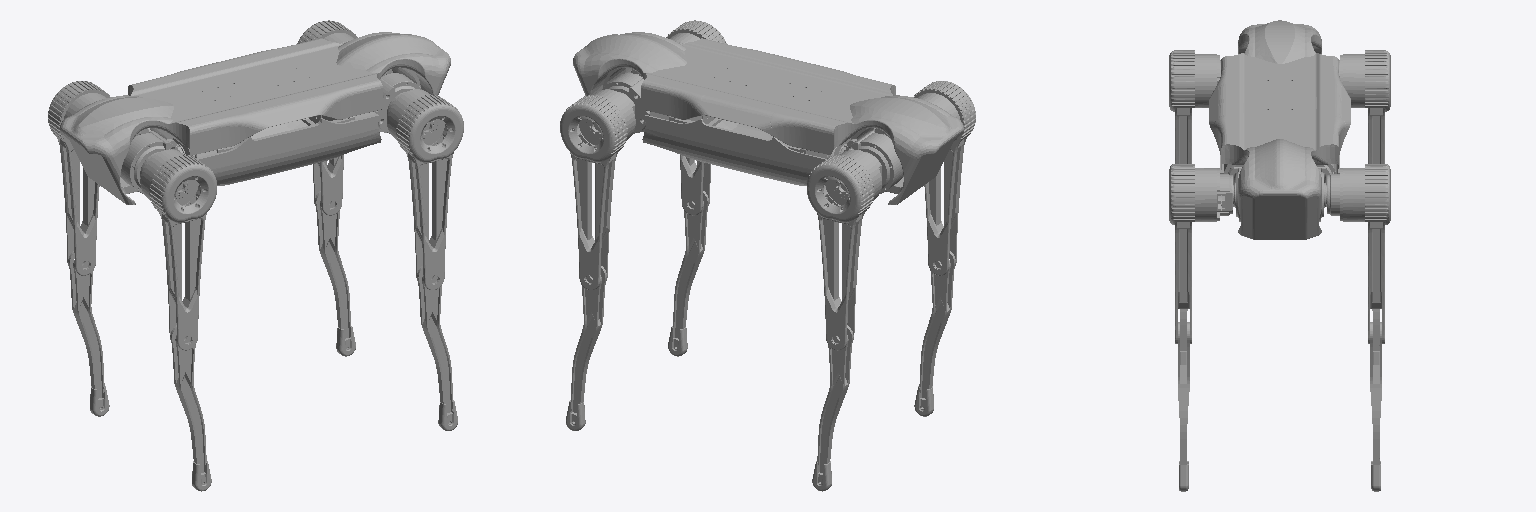
The robot description file, URDF, robot "rex":
<?xml version="1.0" encoding="utf-8"?>
<robot name="rex" xmlns:xacro="http://www.ros.org/wiki/xacro">
  <material name="silver">
    <color rgba="0.700 0.700 0.700 1.000"/>
  </material>
  <!-- Params -->
  <!-- Macros -->
  <!-- Robot Body -->
  <link name="base_link">
    <inertial>
      <origin rpy="0 0 0" xyz="0.02003748539570111 -0.0071304890141553725 0.024462365334068953"/>
      <mass value="5.0"/>
      <inertia ixx="0.19852" ixy="-0.000537" ixz="0.009898" iyy="2.089409" iyz="-0.000639" izz="2.11854"/>
    </inertial>
    <visual>
      <origin rpy="0 0 0" xyz="0 0 0"/>
      <geometry>
        <mesh filename="stl/base_link.stl" scale="0.001 0.001 0.001"/>
      </geometry>
      <material name="silver"/>
    </visual>
    <collision>
      <origin rpy="0 0 0" xyz="0 0 0"/>
      <geometry>
        <mesh filename="stl/base_link.stl" scale="0.001 0.001 0.001"/>
      </geometry>
    </collision>
  </link>
    <!-- create Leg left front leg -->
  <link name="front_left_shoulder_link">
    <inertial>
      <origin rpy="0 0 0" xyz="0.05316643515331182 0.000550720182022707 0.0005858398004480255"/>
      <mass value="2.0"/>
      <inertia ixx="0.002477" ixy="-1.3e-05" ixz="3.2e-05" iyy="0.003947" iyz="1.1e-05" izz="0.002928"/>
    </inertial>
    <visual>
      <origin rpy="0 0 0" xyz="-0.194567 -0.048706 -0.003592"/>
      <geometry>
        <mesh filename="stl/lf_hip_1.stl" scale="0.001 0.001 0.001"/>
      </geometry>
      <material name="silver"/>
    </visual>
    <collision>
      <origin rpy="0 0 0" xyz="-0.194567 -0.048706 -0.003592"/>
      <geometry>
        <mesh filename="stl/lf_hip_1.stl" scale="0.001 0.001 0.001"/>
      </geometry>
    </collision>
  </link>
<link name="front_left_leg_link">
    <inertial>
      <origin rpy="0 0 0" xyz="0.00047044463767242917 0.05813747232667811 -0.0292515806223483"/>
      <mass value="1.0"/>
      <inertia ixx="0.025689" ixy="7.8e-05" ixz="-3.2e-05" iyy="0.025057" iyz="0.004085" izz="0.005269"/>
    </inertial>
    <visual>
      <origin rpy="0 0 0" xyz="-0.252487 -0.079856 -0.003592"/>
      <geometry>
        <mesh filename="stl/lf_leg_1.stl" scale="0.001 0.001 0.001"/>
      </geometry>
      <material name="silver"/>
    </visual>
    <collision>
      <origin rpy="0 0 0" xyz="-0.252487 -0.079856 -0.003592"/>
      <geometry>
        <mesh filename="stl/lf_leg_1.stl" scale="0.001 0.001 0.001"/>
      </geometry>
    </collision>
  </link>
    <link name="front_left_leg_link_cover">
    <inertial>
      <origin rpy="0 0 0" xyz="-2.090400194443287e-06 -0.008202465460677294 0.013476753636331816"/>
      <mass value="0.13180516321676988"/>
      <inertia ixx="0.000126" ixy="-0.0" ixz="-0.0" iyy="0.00027" iyz="1.4e-05" izz="0.00019"/>
    </inertial>
    <visual>
      <origin rpy="0 0 0" xyz="-0.252487 -0.185661 -0.003592"/>
      <geometry>
        <mesh filename="stl/p2_1.stl" scale="0.001 0.001 0.001"/>
      </geometry>
      <material name="silver"/>
    </visual>
    <collision>
      <origin rpy="0 0 0" xyz="-0.252487 -0.185661 -0.003592"/>
      <geometry>
        <mesh filename="stl/p2_1.stl" scale="0.001 0.001 0.001"/>
      </geometry>
    </collision>
  </link>
  <link name="front_left_foot_link">
    <inertial>
      <origin rpy="0 0 0" xyz="0.012966291166638166 -0.011210239998497795 -0.11754008696762525"/>
      <mass value="0.11741117146712181"/>
      <inertia ixx="0.000953" ixy="0.0" ixz="0.000137" iyy="0.000982" iyz="-0.0" izz="3.8e-05"/>
    </inertial>
    <visual>
      <origin rpy="0 0 0" xyz="-0.252498 -0.180861 0.275581"/>
      <geometry>
        <mesh filename="stl/lf_lowleg_1.stl" scale="0.001 0.001 0.001"/>
      </geometry>
      <material name="silver"/>
    </visual>
    <collision>
      <origin rpy="0 0 0" xyz="-0.252498 -0.180861 0.275581"/>
      <geometry>
        <mesh filename="stl/lf_lowleg_1.stl" scale="0.001 0.001 0.001"/>
      </geometry>
    </collision>
  </link>
  <link name="front_left_toe_link">
    <inertial>
      <origin rpy="0 0 0" xyz="-0.00048427024923497486 -0.007000065531260535 0.006815977676121854"/>
      <mass value="0.15329743789754363"/>
      <inertia ixx="3.2e-05" ixy="0.0" ixz="1e-06" iyy="4.2e-05" iyz="-0.0" izz="1.7e-05"/>
    </inertial>
    <visual>
      <origin rpy="0 0 0" xyz="-0.288226 -0.176661 0.559142"/>
      <geometry>
        <mesh filename="stl/lf_foot_1.stl" scale="0.001 0.001 0.001"/>
      </geometry>
      <material name="silver"/>
    </visual>
    <collision>
      <origin rpy="0 0 0" xyz="-0.288226 -0.176661 0.559142"/>
      <geometry>
        <mesh filename="stl/lf_foot_1.stl" scale="0.001 0.001 0.001"/>
      </geometry>
    </collision>
  </link>
    <joint name="motor_front_left_shoulder" type="revolute">
    <origin rpy="0 0 0" xyz="0.194567 0.048706 0.003592"/>
    <parent link="base_link"/>
    <child link="front_left_shoulder_link"/>
    <axis xyz="1.0 0.0 -0.0"/>
    <limit effort="100.0" lower="-0.78" upper="0.78" velocity="0.7"/>
    <dynamics damping="0.0" friction="0.5"/>
    </joint>
    <joint name="motor_front_left_leg" type="revolute">
    <origin rpy="0 0 0" xyz="0.05792 0.03115 0.0"/>
    <parent link="front_left_shoulder_link"/>
    <child link="front_left_leg_link"/>
    <axis xyz="0.0 1.0 -0.0"/>
    <limit effort="100.0" lower="-2.44" upper="2.44" velocity="0.5"/>
    <dynamics damping="0.0" friction="0.0"/>
    </joint>
    <joint name="foot_motor_front_left" type="revolute">
    <origin rpy="0 0 0" xyz="1.1e-05 0.101005 -0.279173"/>
    <parent link="front_left_leg_link"/>
    <child link="front_left_foot_link"/>
    <axis xyz="-0.0 1.0 0.0"/>
    <limit effort="100.0" lower="-2.67" upper="2.67" velocity="0.5"/>
    <dynamics damping="0.0" friction="0.5"/>
    </joint>
    <joint name="front_left_toe" type="fixed">
    <origin rpy="0 0 0" xyz="0.035728 -0.0042 -0.283561"/>
    <parent link="front_left_foot_link"/>
    <child link="front_left_toe_link"/>
    </joint>
    <joint name="front_left_leg_cover_joint" type="fixed">
    <origin rpy="0 0 0" xyz="0.0 0.105805 0.0"/>
    <parent link="front_left_leg_link"/>
    <child link="front_left_leg_link_cover"/>
  </joint>
    <!-- create Leg right front leg -->
<link name="front_right_shoulder_link">
    <inertial>
      <origin rpy="0 0 0" xyz="0.05316643515331204 -0.0005506334390520187 0.0005858398004497394"/>
      <mass value="2.0"/>
      <inertia ixx="0.002477" ixy="1.3e-05" ixz="3.2e-05" iyy="0.003947" iyz="-1.1e-05" izz="0.002928"/>
    </inertial>
    <visual>
      <origin rpy="0 0 0" xyz="-0.194567 0.061294 -0.003592"/>
      <geometry>
        <mesh filename="stl/rf_hip_1.stl" scale="0.001 0.001 0.001"/>
      </geometry>
      <material name="silver"/>
    </visual>
    <collision>
      <origin rpy="0 0 0" xyz="-0.194567 0.061294 -0.003592"/>
      <geometry>
        <mesh filename="stl/rf_hip_1.stl" scale="0.001 0.001 0.001"/>
      </geometry>
    </collision>
  </link>
<link name="front_right_leg_link">
    <inertial>
      <origin rpy="0 0 0" xyz="-0.00047095982667560987 -0.058137385583802687 -0.029251580623966024"/>
      <mass value="1.0"/>
      <inertia ixx="0.025689" ixy="7.8e-05" ixz="3.2e-05" iyy="0.025057" iyz="-0.004085" izz="0.005269"/>
    </inertial>
    <visual>
      <origin rpy="0 0 0" xyz="-0.252487 0.092444 -0.003592"/>
      <geometry>
        <mesh filename="stl/rf_leg_1.stl" scale="0.001 0.001 0.001"/>
      </geometry>
      <material name="silver"/>
    </visual>
    <collision>
      <origin rpy="0 0 0" xyz="-0.252487 0.092444 -0.003592"/>
      <geometry>
        <mesh filename="stl/rf_leg_1.stl" scale="0.001 0.001 0.001"/>
      </geometry>
    </collision>
  </link>
    <link name="front_right_leg_link_cover">
    <inertial>
      <origin rpy="0 0 0" xyz="1.5752308339944676e-06 0.008202552203649793 0.013476753636347592"/>
      <mass value="0.13180516321676988"/>
      <inertia ixx="0.000126" ixy="-0.0" ixz="0.0" iyy="0.00027" iyz="-1.4e-05" izz="0.00019"/>
    </inertial>
    <visual>
      <origin rpy="0 0 0" xyz="-0.252487 0.198249 -0.003592"/>
      <geometry>
        <mesh filename="stl/P4_1.stl" scale="0.001 0.001 0.001"/>
      </geometry>
      <material name="silver"/>
    </visual>
    <collision>
      <origin rpy="0 0 0" xyz="-0.252487 0.198249 -0.003592"/>
      <geometry>
        <mesh filename="stl/P4_1.stl" scale="0.001 0.001 0.001"/>
      </geometry>
    </collision>
  </link>
    <link name="front_right_foot_link">
    <inertial>
      <origin rpy="0 0 0" xyz="0.012966453142349954 0.011189960499004004 -0.1175400869676112"/>
      <mass value="0.11741117146712181"/>
      <inertia ixx="0.000953" ixy="0.0" ixz="0.000137" iyy="0.000982" iyz="-0.0" izz="3.8e-05"/>
    </inertial>
    <visual>
      <origin rpy="0 0 0" xyz="-0.252476 0.193449 0.275581"/>
      <geometry>
        <mesh filename="stl/rf_lowleg_1.stl" scale="0.001 0.001 0.001"/>
      </geometry>
      <material name="silver"/>
    </visual>
    <collision>
      <origin rpy="0 0 0" xyz="-0.252476 0.193449 0.275581"/>
      <geometry>
        <mesh filename="stl/rf_lowleg_1.stl" scale="0.001 0.001 0.001"/>
      </geometry>
    </collision>
  </link>
    <link name="front_right_toe_link">
    <inertial>
      <origin rpy="0 0 0" xyz="-0.0004841082735168589 -0.006999865033764652 0.006815977676136731"/>
      <mass value="0.15329743789754363"/>
      <inertia ixx="3.2e-05" ixy="0.0" ixz="1e-06" iyy="4.2e-05" iyz="-0.0" izz="1.7e-05"/>
    </inertial>
    <visual>
      <origin rpy="0 0 0" xyz="-0.288204 0.175249 0.559142"/>
      <geometry>
        <mesh filename="stl/rf_foot_1.stl" scale="0.001 0.001 0.001"/>
      </geometry>
      <material name="silver"/>
    </visual>
    <collision>
      <origin rpy="0 0 0" xyz="-0.288204 0.175249 0.559142"/>
      <geometry>
        <mesh filename="stl/rf_foot_1.stl" scale="0.001 0.001 0.001"/>
      </geometry>
    </collision>
  </link>
  <joint name="motor_front_right_shoulder" type="revolute">
    <origin rpy="0 0 0" xyz="0.194567 -0.061294 0.003592"/>
    <parent link="base_link"/>
    <child link="front_right_shoulder_link"/>
    <axis xyz="1.0 0.0 -0.0"/>
    <limit effort="100.0" lower="-0.78" upper="0.78" velocity="0.7"/>
    <dynamics damping="0.0" friction="0.5"/>
  </joint>
  <joint name="motor_front_right_leg" type="revolute">
    <origin rpy="0 0 0" xyz="0.05792 -0.03115 0.0"/>
    <parent link="front_right_shoulder_link"/>
    <child link="front_right_leg_link"/>
    <axis xyz="-0.0 1.0 -0.0"/>
    <limit effort="100.0" lower="-2.44" upper="2.44" velocity="0.5"/>
    <dynamics damping="0.0" friction="0.0"/>
  </joint>
    <joint name="foot_motor_front_right" type="revolute">
    <origin rpy="0 0 0" xyz="-1.1e-05 -0.101005 -0.279173"/>
    <parent link="front_right_leg_link"/>
    <child link="front_right_foot_link"/>
    <axis xyz="-0.0 1.0 -0.0"/>
    <limit effort="100.0" lower="-2.67" upper="2.67" velocity="0.5"/>
    <dynamics damping="0.0" friction="0.5"/>
  </joint>
  <joint name="front_right_toe" type="fixed">
    <origin rpy="0 0 0" xyz="0.035728 0.0182 -0.283561"/>
    <parent link="front_right_foot_link"/>
    <child link="front_right_toe_link"/>
  </joint>
  <joint name="front_right_leg_cover_joint" type="fixed">
    <origin rpy="0 0 0" xyz="0.0 -0.105805 0.0"/>
    <parent link="front_right_leg_link"/>
    <child link="front_right_leg_link_cover"/>
  </joint>
      <!-- create Leg left rear leg -->
  <link name="rear_left_shoulder_link">
    <inertial>
      <origin rpy="0 0 0" xyz="-0.05316679644019415 0.0005507201820246221 0.0005858398004397222"/>
      <mass value="2.0"/>
      <inertia ixx="0.002477" ixy="1.3e-05" ixz="-3.2e-05" iyy="0.003947" iyz="1.1e-05" izz="0.002928"/>
    </inertial>
    <visual>
      <origin rpy="0 0 0" xyz="0.180033 -0.048706 -0.003592"/>
      <geometry>
        <mesh filename="stl/lh_hip_1.stl" scale="0.001 0.001 0.001"/>
      </geometry>
      <material name="silver"/>
    </visual>
    <collision>
      <origin rpy="0 0 0" xyz="0.180033 -0.048706 -0.003592"/>
      <geometry>
        <mesh filename="stl/lh_hip_1.stl" scale="0.001 0.001 0.001"/>
      </geometry>
    </collision>
  </link>
  <link name="rear_left_leg_link">
    <inertial>
      <origin rpy="0 0 0" xyz="0.0004705985201587659 0.058137472326679665 -0.029251580622356724"/>
      <mass value="1.0"/>
      <inertia ixx="0.025689" ixy="7.8e-05" ixz="-3.2e-05" iyy="0.025057" iyz="0.004085" izz="0.005269"/>
    </inertial>
    <visual>
      <origin rpy="0 0 0" xyz="0.237953 -0.079856 -0.003592"/>
      <geometry>
        <mesh filename="stl/lh_leg_1.stl" scale="0.001 0.001 0.001"/>
      </geometry>
      <material name="silver"/>
    </visual>
    <collision>
      <origin rpy="0 0 0" xyz="0.237953 -0.079856 -0.003592"/>
      <geometry>
        <mesh filename="stl/lh_leg_1.stl" scale="0.001 0.001 0.001"/>
      </geometry>
    </collision>
  </link>
  <link name="rear_left_leg_link_cover">
    <inertial>
      <origin rpy="0 0 0" xyz="-1.936517710215968e-06 -0.008202465460675601 0.013476753636323302"/>
      <mass value="0.13180516321676988"/>
      <inertia ixx="0.000126" ixy="-0.0" ixz="-0.0" iyy="0.00027" iyz="1.4e-05" izz="0.00019"/>
    </inertial>
    <visual>
      <origin rpy="0 0 0" xyz="0.237953 -0.185661 -0.003592"/>
      <geometry>
        <mesh filename="stl/p1_1.stl" scale="0.001 0.001 0.001"/>
      </geometry>
      <material name="silver"/>
    </visual>
    <collision>
      <origin rpy="0 0 0" xyz="0.237953 -0.185661 -0.003592"/>
      <geometry>
        <mesh filename="stl/p1_1.stl" scale="0.001 0.001 0.001"/>
      </geometry>
    </collision>
  </link>
    <link name="rear_left_foot_link">
    <inertial>
      <origin rpy="0 0 0" xyz="0.012966445049139047 -0.011210239998496796 -0.11754008696763224"/>
      <mass value="0.11741117146712189"/>
      <inertia ixx="0.000953" ixy="0.0" ixz="0.000137" iyy="0.000982" iyz="-0.0" izz="3.8e-05"/>
    </inertial>
    <visual>
      <origin rpy="0 0 0" xyz="0.237942 -0.180861 0.275581"/>
      <geometry>
        <mesh filename="stl/lh_lowleg_1.stl" scale="0.001 0.001 0.001"/>
      </geometry>
      <material name="silver"/>
    </visual>
    <collision>
      <origin rpy="0 0 0" xyz="0.237942 -0.180861 0.275581"/>
      <geometry>
        <mesh filename="stl/lh_lowleg_1.stl" scale="0.001 0.001 0.001"/>
      </geometry>
    </collision>
  </link>
  <link name="rear_left_toe_link">
    <inertial>
      <origin rpy="0 0 0" xyz="-0.0004841163667276549 -0.007000065531259675 0.0068159776761156365"/>
      <mass value="0.15329743789754363"/>
      <inertia ixx="3.2e-05" ixy="0.0" ixz="1e-06" iyy="4.2e-05" iyz="-0.0" izz="1.7e-05"/>
    </inertial>
    <visual>
      <origin rpy="0 0 0" xyz="0.202214 -0.176661 0.559142"/>
      <geometry>
        <mesh filename="stl/lh_foot_1.stl" scale="0.001 0.001 0.001"/>
      </geometry>
      <material name="silver"/>
    </visual>
    <collision>
      <origin rpy="0 0 0" xyz="0.202214 -0.176661 0.559142"/>
      <geometry>
        <mesh filename="stl/lh_foot_1.stl" scale="0.001 0.001 0.001"/>
      </geometry>
    </collision>
  </link>
  <joint name="motor_rear_left_shoulder" type="revolute">
    <origin rpy="0 0 0" xyz="-0.180033 0.048706 0.003592"/>
    <parent link="base_link"/>
    <child link="rear_left_shoulder_link"/>
    <axis xyz="1.0 -0.0 0.0"/>
    <limit effort="100.0" lower="-0.78" upper="0.78" velocity="0.7"/>
    <dynamics damping="0.0" friction="0.5"/>
  </joint>
    <joint name="motor_rear_left_leg" type="revolute">
    <origin rpy="0 0 0" xyz="-0.05792 0.03115 0.0"/>
    <parent link="rear_left_shoulder_link"/>
    <child link="rear_left_leg_link"/>
    <axis xyz="0.0 1.0 0.0"/>
    <limit effort="100.0" lower="-2.44" upper="2.44" velocity="0.5"/>
    <dynamics damping="0.0" friction="0.0"/>
  </joint>
  <joint name="foot_motor_rear_left" type="revolute">
    <origin rpy="0 0 0" xyz="1.1e-05 0.101005 -0.279173"/>
    <parent link="rear_left_leg_link"/>
    <child link="rear_left_foot_link"/>
    <axis xyz="-0.0 1.0 0.0"/>
    <limit effort="100.0" lower="-2.67" upper="2.67" velocity="0.5"/>
    <dynamics damping="0.0" friction="0.5"/>
  </joint>
    <joint name="rear_left_toe" type="fixed">
    <origin rpy="0 0 0" xyz="0.035728 -0.0042 -0.283561"/>
    <parent link="rear_left_foot_link"/>
    <child link="rear_left_toe_link"/>
  </joint>
    <joint name="rear_left_leg_cover_joint" type="fixed">
    <origin rpy="0 0 0" xyz="0.0 0.105805 0.0"/>
    <parent link="rear_left_leg_link"/>
    <child link="rear_left_leg_link_cover"/>
  </joint>
      <!-- create Leg right rear leg -->
  <link name="rear_right_shoulder_link">
    <inertial>
      <origin rpy="0 0 0" xyz="-0.05316679644019451 -0.000550633439046426 0.0005858398004401559"/>
      <mass value="2.0"/>
      <inertia ixx="0.002477" ixy="-1.3e-05" ixz="-3.2e-05" iyy="0.003947" iyz="-1.1e-05" izz="0.002928"/>
    </inertial>
    <visual>
      <origin rpy="0 0 0" xyz="0.180033 0.061294 -0.003592"/>
      <geometry>
        <mesh filename="stl/rh_hip_1.stl" scale="0.001 0.001 0.001"/>
      </geometry>
      <material name="silver"/>
    </visual>
    <collision>
      <origin rpy="0 0 0" xyz="0.180033 0.061294 -0.003592"/>
      <geometry>
        <mesh filename="stl/rh_hip_1.stl" scale="0.001 0.001 0.001"/>
      </geometry>
    </collision>
  </link>
  <link name="rear_right_leg_link">
    <inertial>
      <origin rpy="0 0 0" xyz="-0.00047080594419732225 -0.05813738558379686 -0.029251580623975794"/>
      <mass value="1.0"/>
      <inertia ixx="0.025689" ixy="7.8e-05" ixz="3.2e-05" iyy="0.025057" iyz="-0.004085" izz="0.005269"/>
    </inertial>
    <visual>
      <origin rpy="0 0 0" xyz="0.237953 0.092444 -0.003592"/>
      <geometry>
        <mesh filename="stl/rh_leg_1.stl" scale="0.001 0.001 0.001"/>
      </geometry>
      <material name="silver"/>
    </visual>
    <collision>
      <origin rpy="0 0 0" xyz="0.237953 0.092444 -0.003592"/>
      <geometry>
        <mesh filename="stl/rh_leg_1.stl" scale="0.001 0.001 0.001"/>
      </geometry>
    </collision>
  </link>
    <link name="rear_right_leg_link_cover">
    <inertial>
      <origin rpy="0 0 0" xyz="1.7291133141139614e-06 0.008202552203655566 0.013476753636337829"/>
      <mass value="0.13180516321676988"/>
      <inertia ixx="0.000126" ixy="-0.0" ixz="0.0" iyy="0.00027" iyz="-1.4e-05" izz="0.00019"/>
    </inertial>
    <visual>
      <origin rpy="0 0 0" xyz="0.237953 0.198249 -0.003592"/>
      <geometry>
        <mesh filename="stl/p3_1.stl" scale="0.001 0.001 0.001"/>
      </geometry>
      <material name="silver"/>
    </visual>
    <collision>
      <origin rpy="0 0 0" xyz="0.237953 0.198249 -0.003592"/>
      <geometry>
        <mesh filename="stl/p3_1.stl" scale="0.001 0.001 0.001"/>
      </geometry>
    </collision>
  </link>
  <link name="rear_right_foot_link">
    <inertial>
      <origin rpy="0 0 0" xyz="0.012966607024813698 0.011189960499010054 -0.11754008696762136"/>
      <mass value="0.11741117146712181"/>
      <inertia ixx="0.000953" ixy="0.0" ixz="0.000137" iyy="0.000982" iyz="-0.0" izz="3.8e-05"/>
    </inertial>
    <visual>
      <origin rpy="0 0 0" xyz="0.237964 0.193449 0.275581"/>
      <geometry>
        <mesh filename="stl/rh_lowleg_1.stl" scale="0.001 0.001 0.001"/>
      </geometry>
      <material name="silver"/>
    </visual>
    <collision>
      <origin rpy="0 0 0" xyz="0.237964 0.193449 0.275581"/>
      <geometry>
        <mesh filename="stl/rh_lowleg_1.stl" scale="0.001 0.001 0.001"/>
      </geometry>
    </collision>
  </link>
  <link name="rear_right_toe_link">
    <inertial>
      <origin rpy="0 0 0" xyz="-0.0004849543910595 -0.006999865033758906 0.0068159776761256285"/>
      <mass value="0.15329743789754363"/>
      <inertia ixx="3.2e-05" ixy="0.0" ixz="1e-06" iyy="4.2e-05" iyz="-0.0" izz="1.7e-05"/>
    </inertial>
    <visual>
      <origin rpy="0 0 0" xyz="0.202235 0.175249 0.559142"/>
      <geometry>
        <mesh filename="stl/rh_foot_1.stl" scale="0.001 0.001 0.001"/>
      </geometry>
      <material name="silver"/>
    </visual>
    <collision>
      <origin rpy="0 0 0" xyz="0.202235 0.175249 0.559142"/>
      <geometry>
        <mesh filename="stl/rh_foot_1.stl" scale="0.001 0.001 0.001"/>
      </geometry>
    </collision>
  </link>
  <joint name="motor_rear_right_shoulder" type="revolute">
    <origin rpy="0 0 0" xyz="-0.180033 -0.061294 0.003592"/>
    <parent link="base_link"/>
    <child link="rear_right_shoulder_link"/>
    <axis xyz="1.0 -0.0 0.0"/>
    <limit effort="100.0" lower="-0.78" upper="0.78" velocity="0.7"/>
    <dynamics damping="0.0" friction="0.5"/>
  </joint>
  <joint name="motor_rear_right_leg" type="revolute">
    <origin rpy="0 0 0" xyz="-0.05792 -0.03115 0.0"/>
    <parent link="rear_right_shoulder_link"/>
    <child link="rear_right_leg_link"/>
    <axis xyz="-0.0 1.0 0.0"/>
    <limit effort="100.0" lower="-2.44" upper="2.44" velocity="0.5"/>
    <dynamics damping="0.0" friction="0.0"/>
  </joint>
  <joint name="foot_motor_rear_right" type="revolute">
    <origin rpy="0 0 0" xyz="-1.1e-05 -0.101005 -0.279173"/>
    <parent link="rear_right_leg_link"/>
    <child link="rear_right_foot_link"/>
    <axis xyz="-0.0 1.0 -0.0"/>
    <limit effort="100.0" lower="-2.67" upper="2.67" velocity="0.5"/>
    <dynamics damping="0.0" friction="0.5"/>
  </joint>
  <joint name="rear_right_toe" type="fixed">
    <origin rpy="0 0 0" xyz="0.035729 0.0182 -0.283561"/>
    <parent link="rear_right_foot_link"/>
    <child link="rear_right_toe_link"/>
  </joint>
  <joint name="rear_right_leg_cover_joint" type="fixed">
    <origin rpy="0 0 0" xyz="0.0 -0.105805 0.0"/>
    <parent link="rear_right_leg_link"/>
    <child link="rear_right_leg_link_cover"/>
  </joint>
</robot>

--- Render facts (derived) ---
3 views of the same robot in one strip: view 1: azimuth 30°, elevation 25°; view 2: azimuth 150°, elevation 25°; view 3: azimuth 270°, elevation 25° (orthographic).
Robot: rex — 21 links, 20 joints (12 revolute, 8 fixed); root link base_link; default pose: every joint at zero.
Visible links, largest first — view 1: base_link, front_right_leg_link, rear_right_leg_link, rear_left_leg_link, rear_right_leg_link_cover, front_right_leg_link_cover, rear_left_foot_link, rear_right_foot_link, front_right_foot_link, front_left_foot_link, front_left_leg_link, rear_right_shoulder_link (+3 smaller); view 2: base_link, front_left_leg_link, rear_left_leg_link, rear_right_leg_link, rear_left_leg_link_cover, front_left_leg_link_cover, rear_left_foot_link, rear_right_foot_link, front_left_foot_link, front_right_foot_link, front_right_leg_link, rear_left_shoulder_link (+3 smaller); view 3: base_link, front_left_leg_link, front_right_leg_link, rear_right_leg_link, rear_left_leg_link, front_left_leg_link_cover, front_right_leg_link_cover, rear_left_leg_link_cover, rear_right_leg_link_cover, front_left_foot_link, front_right_foot_link.
Boxes of the visible links, x1,y1,x2,y2 form: base_link: [60, 32, 450, 204]; front_right_leg_link: [387, 89, 453, 289]; rear_right_leg_link: [140, 149, 206, 350]; rear_left_leg_link: [55, 93, 105, 275]; rear_right_leg_link_cover: [149, 155, 216, 222]; front_right_leg_link_cover: [396, 95, 463, 162]; rear_left_foot_link: [68, 251, 104, 398]; rear_right_foot_link: [170, 325, 206, 472]; front_right_foot_link: [417, 266, 452, 412]; front_left_foot_link: [315, 191, 350, 338]; front_left_leg_link: [313, 33, 353, 215]; rear_right_shoulder_link: [121, 131, 183, 193]; base_link: [573, 32, 963, 204]; front_left_leg_link: [570, 89, 635, 289]; rear_left_leg_link: [817, 149, 881, 350]; rear_right_leg_link: [918, 93, 968, 275]; rear_left_leg_link_cover: [807, 155, 874, 222]; front_left_leg_link_cover: [560, 95, 627, 162]; rear_left_foot_link: [817, 325, 853, 472]; rear_right_foot_link: [919, 251, 955, 398]; front_left_foot_link: [571, 266, 606, 412]; front_right_foot_link: [673, 191, 708, 338]; front_right_leg_link: [670, 33, 710, 215]; rear_left_shoulder_link: [840, 131, 902, 193]; base_link: [1209, 20, 1350, 239]; front_left_leg_link: [1326, 168, 1384, 343]; front_right_leg_link: [1175, 168, 1233, 343]; rear_right_leg_link: [1175, 54, 1220, 163]; rear_left_leg_link: [1339, 54, 1384, 163]; front_left_leg_link_cover: [1365, 164, 1390, 224]; front_right_leg_link_cover: [1169, 164, 1194, 224]; rear_left_leg_link_cover: [1365, 50, 1390, 111]; rear_right_leg_link_cover: [1169, 50, 1194, 111]; front_left_foot_link: [1370, 322, 1381, 464]; front_right_foot_link: [1178, 322, 1189, 464].
Size in the robot's own frame: 0.7297 by 0.4039 by 0.68 metres.
21 mesh visuals loaded from 21 distinct referenced files (21 binary STL).